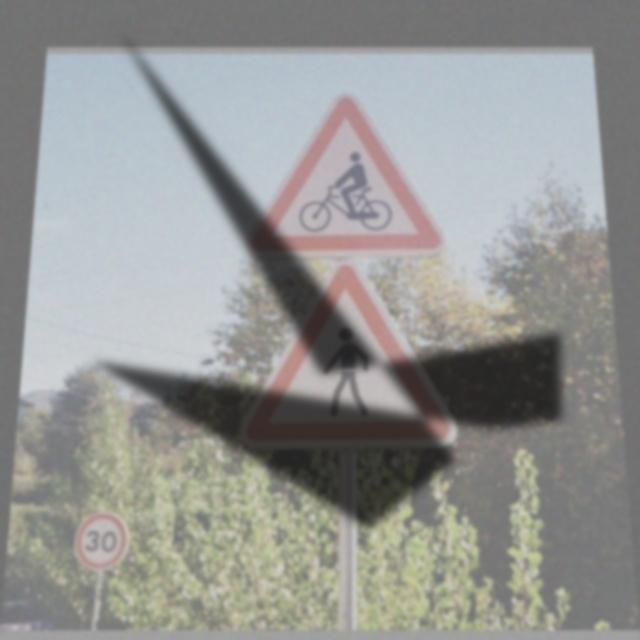Cycle_Crossing: (252, 90, 449, 256)
